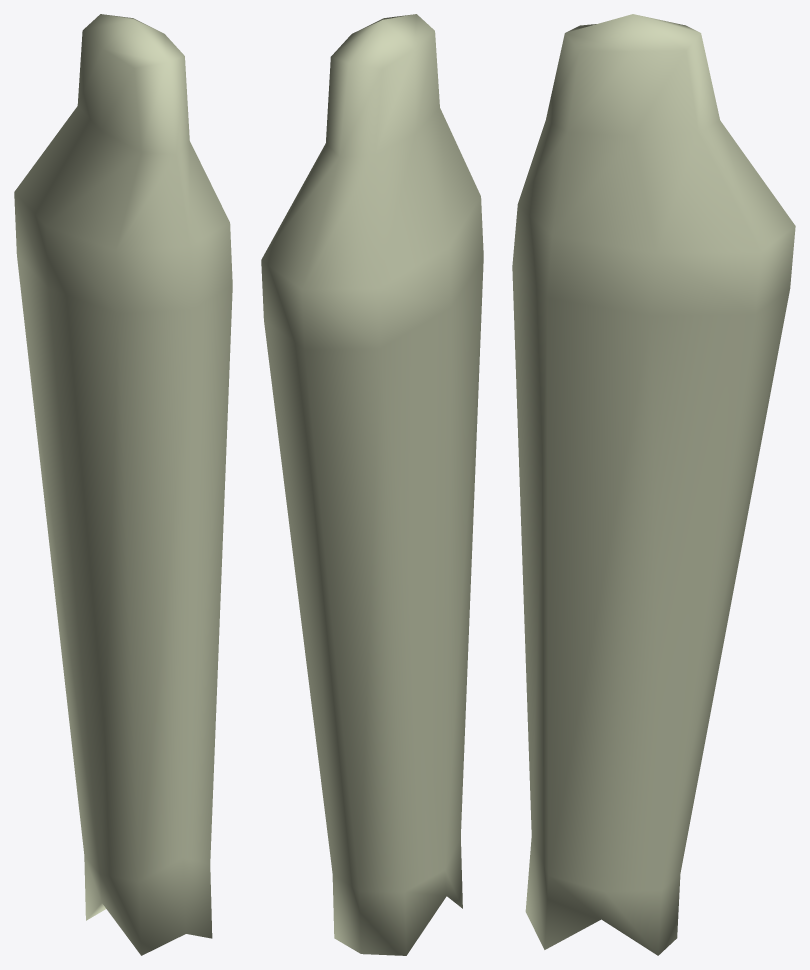
File: anime_robot_lower_leg.dae
3 views of the same model, side by side, from view 1: azimuth 30°, elevation 25°; view 2: azimuth 150°, elevation 25°; view 3: azimuth 270°, elevation 25° (orthographic). The views are drawn at different scales.
Visible parts, largest first — view 1: Cube6_copy7-0; view 2: Cube6_copy7-0; view 3: Cube6_copy7-0.
Boxes of the visible parts, x1,y1,x2,y2 form: Cube6_copy7-0: [14, 14, 232, 955]; Cube6_copy7-0: [261, 14, 483, 955]; Cube6_copy7-0: [512, 14, 795, 955].
Size of the model in its own units: 0.598 by 3.38 by 0.9395.
